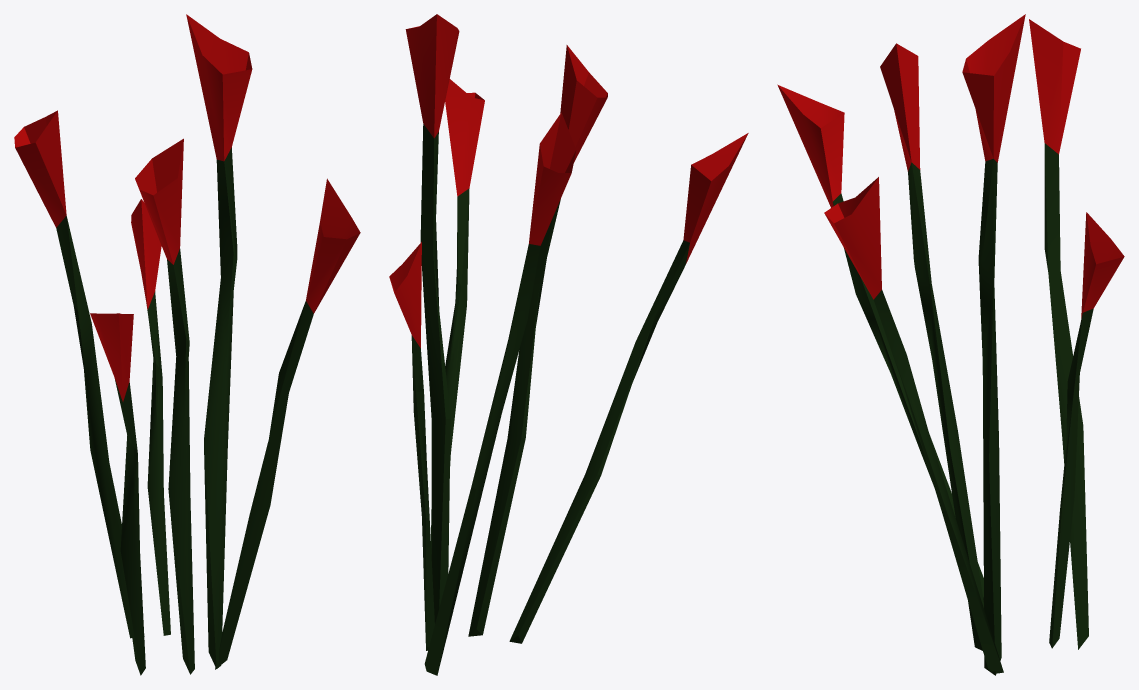
Rendered from SM_TropicalFlower_01.obj.
The picture shows the model from 3 angles, left to right: view 1: azimuth 30°, elevation 25°; view 2: azimuth 150°, elevation 25°; view 3: azimuth 270°, elevation 25°; orthographic projection.
Visible parts, largest first — view 1: SM_TropicalFlower_01; view 2: SM_TropicalFlower_01; view 3: SM_TropicalFlower_01.
Part boxes in pixels (x1,y1,x2,y2): SM_TropicalFlower_01: [14, 14, 360, 675]; SM_TropicalFlower_01: [389, 14, 748, 675]; SM_TropicalFlower_01: [777, 14, 1124, 675].
Bounding box in the file's own units: 0.4682 × 1.07 × 0.5154.
